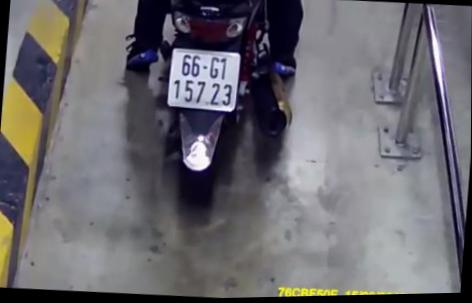LP: (165, 44, 243, 116)
